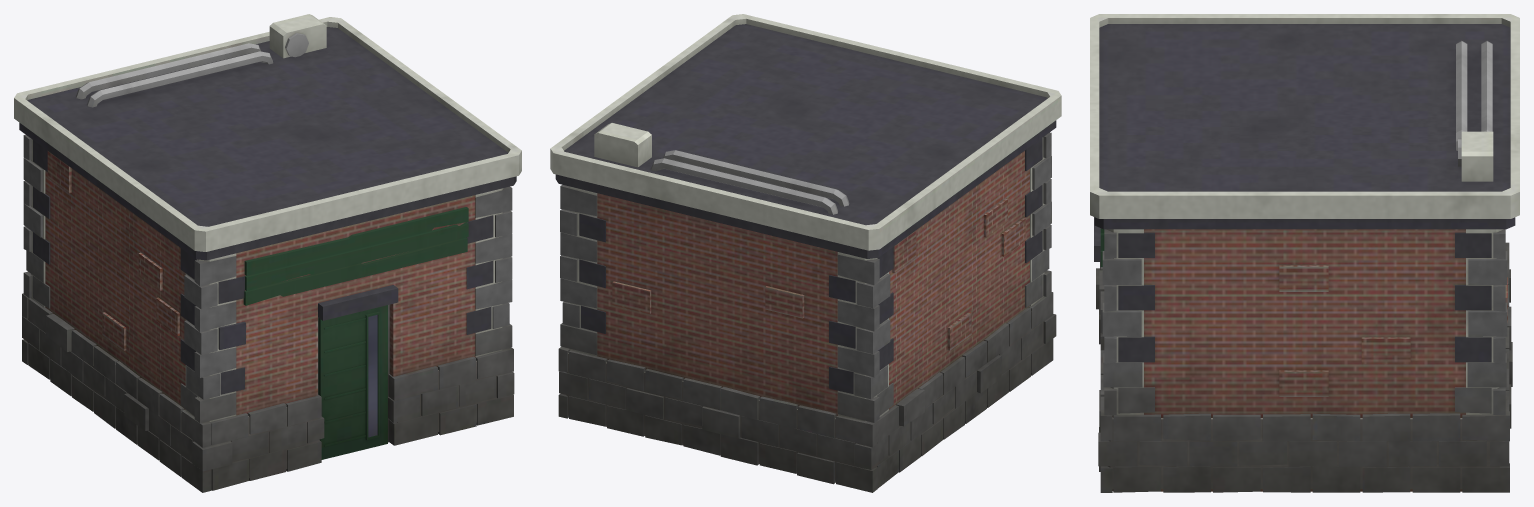
File: 1Story_Sign.glb
3 renders of one model, left to right at view 1: azimuth 30°, elevation 25°; view 2: azimuth 150°, elevation 25°; view 3: azimuth 270°, elevation 25°, orthographic. The views are drawn at different scales.
Parts seen in each view (by area): view 1: 1Story_Sign_medium; view 2: 1Story_Sign_medium; view 3: 1Story_Sign_medium.
Boxes of the visible parts, left/top/right/bottom form: 1Story_Sign_medium: left=14, top=14, right=521, bottom=492; 1Story_Sign_medium: left=550, top=14, right=1061, bottom=492; 1Story_Sign_medium: left=1090, top=14, right=1519, bottom=492.
Size of the model in its own units: 2.15 by 1.79 by 2.15.
2 materials, 2 textured.
